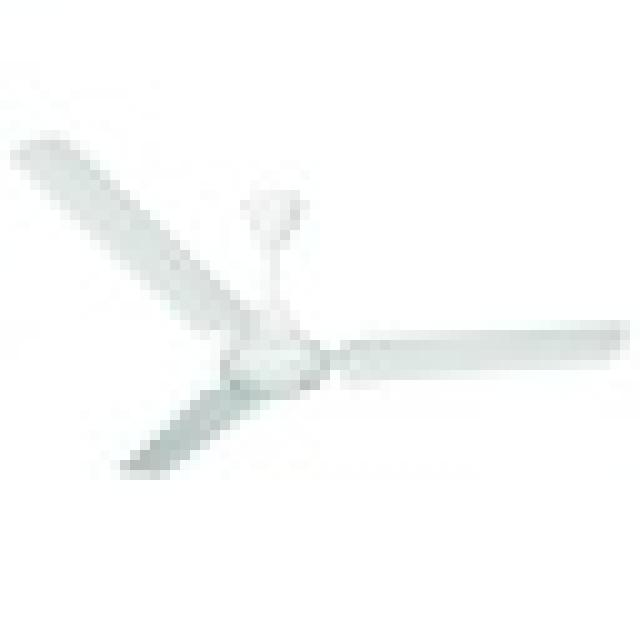Bulb: (31, 123, 632, 509)
